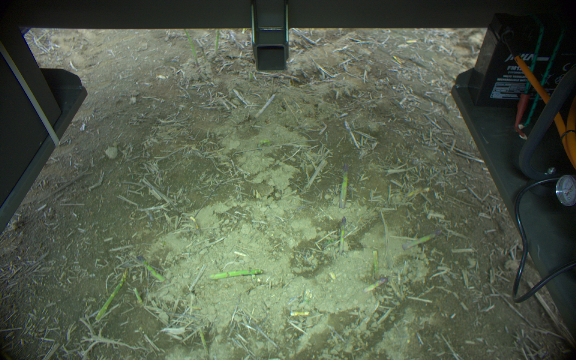aspa: (95, 266, 129, 321), (210, 268, 264, 281), (182, 29, 199, 68), (406, 231, 437, 251), (141, 261, 166, 282), (336, 214, 348, 255), (338, 163, 348, 208), (363, 277, 385, 293), (212, 29, 223, 58), (407, 186, 431, 199), (198, 330, 209, 358), (370, 248, 379, 281), (132, 285, 143, 306)
